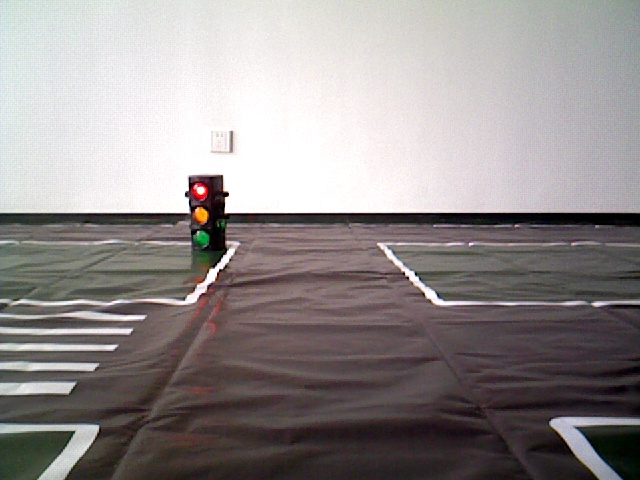red: (191, 177, 222, 251)
